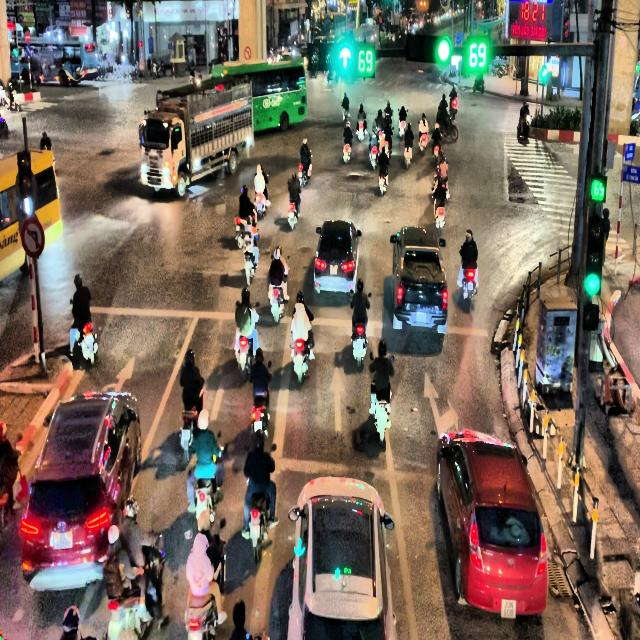lisence_plate: (50, 528, 73, 551), (500, 597, 517, 620), (416, 311, 427, 323), (330, 263, 339, 276)
